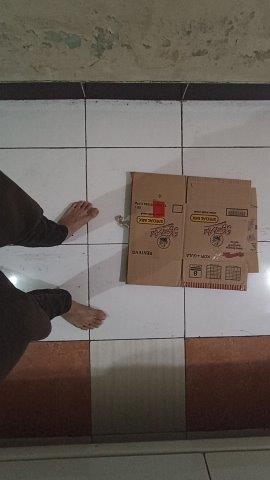kardus: (128, 174, 258, 290)
